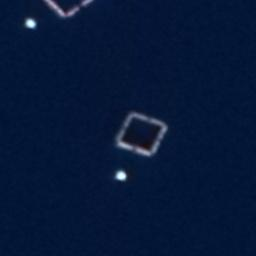square_solid: (107, 103, 173, 165), (34, 1, 101, 26)
